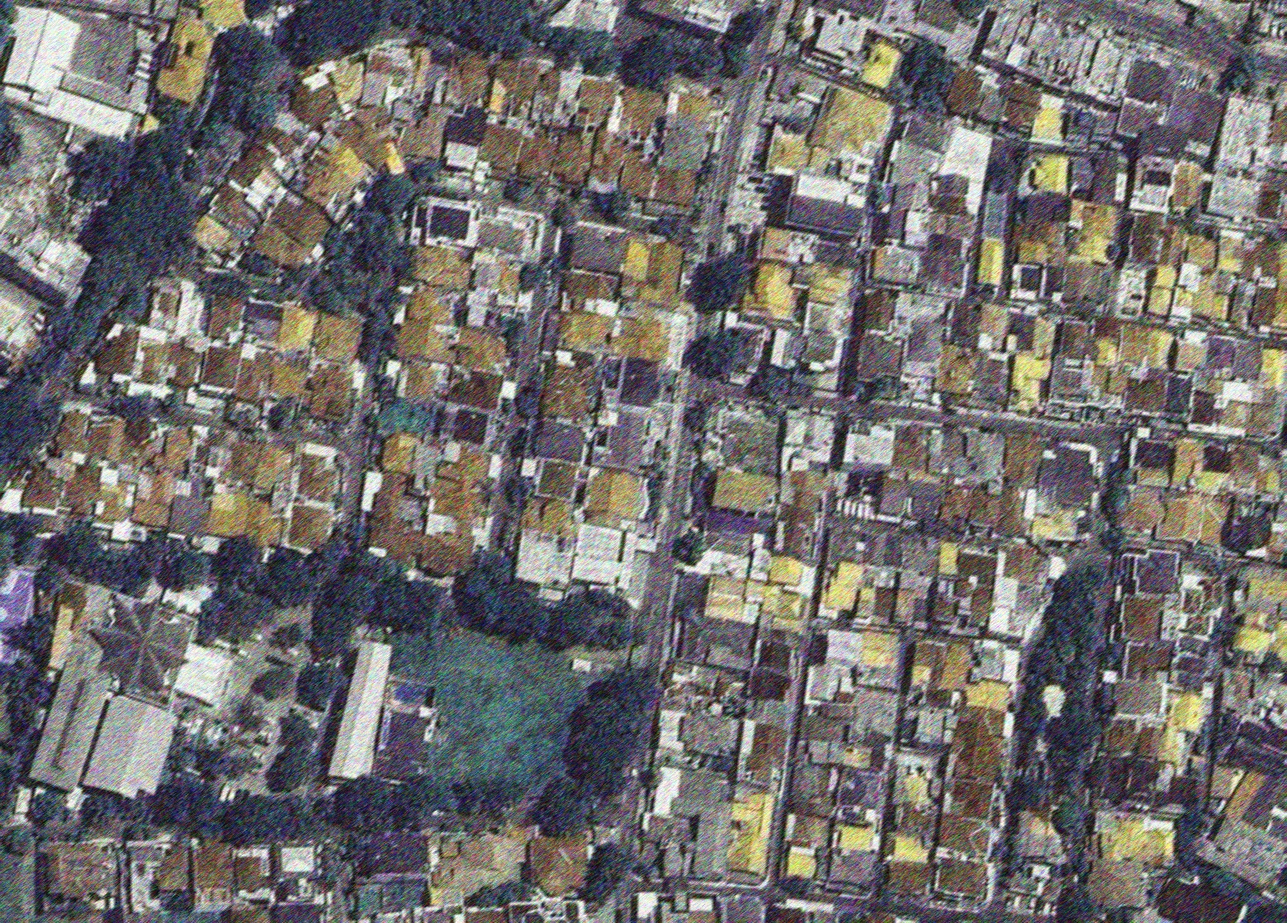building: (544, 226, 703, 373), (971, 0, 1144, 112), (341, 467, 479, 604), (73, 581, 204, 711), (26, 632, 124, 795), (199, 120, 316, 246), (653, 645, 752, 773), (880, 111, 994, 222), (0, 192, 101, 309), (81, 691, 180, 807), (415, 445, 496, 583), (327, 638, 395, 786), (246, 186, 342, 284), (797, 686, 899, 774), (369, 676, 446, 789), (60, 10, 147, 108), (16, 78, 141, 146), (806, 81, 898, 170), (0, 3, 83, 100), (1195, 808, 1287, 895), (290, 132, 376, 222), (425, 830, 526, 906), (510, 489, 584, 592), (806, 628, 901, 707), (875, 0, 987, 65), (797, 260, 858, 376), (152, 13, 223, 109), (44, 578, 112, 678), (929, 122, 1000, 217), (782, 169, 873, 243), (650, 764, 735, 843), (797, 0, 881, 75), (334, 101, 410, 179), (769, 467, 830, 563), (693, 510, 771, 585), (203, 484, 289, 552), (1157, 80, 1230, 157), (986, 550, 1047, 642), (675, 610, 760, 676), (707, 402, 781, 475), (1220, 757, 1287, 837), (537, 345, 601, 426), (462, 256, 526, 337), (1213, 93, 1276, 173), (140, 274, 209, 347), (0, 272, 50, 371), (1095, 813, 1180, 871), (723, 787, 776, 880), (827, 519, 921, 570), (569, 523, 639, 591), (1037, 442, 1099, 516), (951, 706, 1008, 786), (171, 641, 237, 709), (1200, 165, 1269, 230), (557, 218, 630, 279), (527, 831, 593, 898), (1218, 665, 1287, 729), (583, 467, 650, 532), (1154, 876, 1246, 923), (360, 42, 419, 113), (1155, 491, 1228, 547), (735, 720, 792, 791), (634, 0, 737, 39), (437, 101, 490, 176), (742, 258, 804, 322), (512, 529, 577, 590), (780, 407, 837, 476), (747, 636, 802, 706), (204, 182, 268, 242), (621, 237, 686, 296), (356, 833, 431, 884), (409, 197, 482, 249), (709, 466, 779, 520), (910, 641, 971, 702), (397, 99, 452, 166), (1129, 149, 1182, 218), (1223, 718, 1287, 775), (658, 112, 714, 176), (701, 572, 766, 627), (1122, 54, 1183, 112), (611, 310, 675, 365), (600, 409, 652, 475), (47, 844, 108, 900), (487, 58, 541, 121), (691, 801, 734, 880), (510, 125, 562, 190), (1071, 200, 1122, 266), (917, 234, 972, 295), (817, 557, 867, 624), (473, 119, 526, 182), (1094, 755, 1159, 806), (410, 242, 475, 293), (582, 128, 630, 197), (309, 311, 363, 371), (549, 127, 597, 194), (1013, 810, 1070, 866), (846, 689, 901, 747), (186, 211, 244, 266), (281, 80, 340, 134), (1178, 573, 1227, 638), (442, 51, 494, 112), (1118, 549, 1182, 598), (559, 269, 622, 318), (1004, 351, 1053, 414), (756, 580, 811, 636), (1058, 256, 1114, 311), (643, 815, 694, 875), (1003, 863, 1060, 916), (901, 316, 946, 383), (306, 366, 357, 425), (1254, 242, 1287, 332), (453, 325, 511, 376), (193, 839, 234, 911), (936, 813, 995, 863), (678, 711, 740, 758), (0, 276, 42, 345), (857, 34, 905, 93), (59, 462, 106, 521), (764, 127, 816, 180), (284, 501, 334, 556), (855, 332, 905, 387), (526, 65, 571, 126), (190, 427, 238, 484), (572, 75, 620, 132), (934, 857, 992, 904), (322, 55, 367, 115), (934, 343, 979, 403), (448, 366, 504, 413), (867, 243, 923, 290), (703, 509, 774, 546), (971, 637, 1024, 686), (868, 243, 923, 290), (943, 65, 988, 122), (759, 226, 820, 268), (1001, 432, 1045, 490), (51, 407, 95, 465), (1091, 860, 1144, 908), (237, 297, 285, 350), (556, 310, 615, 353), (999, 81, 1045, 136), (198, 342, 243, 398), (1113, 97, 1164, 146), (19, 466, 66, 519), (787, 798, 833, 852), (534, 419, 588, 465), (396, 320, 453, 363), (1118, 491, 1168, 540), (651, 164, 700, 214), (127, 841, 161, 913), (825, 849, 877, 896), (944, 777, 997, 823), (901, 473, 947, 526), (616, 149, 661, 203), (232, 350, 274, 407), (838, 768, 884, 820), (1244, 387, 1287, 442), (930, 576, 974, 629), (419, 534, 473, 577), (1113, 678, 1169, 719), (297, 451, 340, 504), (276, 303, 318, 357), (645, 239, 686, 294), (703, 574, 749, 623), (1049, 355, 1095, 404), (963, 431, 1007, 482), (1223, 512, 1274, 556), (1030, 503, 1082, 546), (252, 443, 295, 495), (1172, 636, 1211, 693), (622, 87, 666, 137), (844, 424, 895, 467), (470, 254, 521, 297), (619, 357, 661, 409), (154, 425, 196, 477), (85, 414, 127, 466), (96, 328, 137, 381), (475, 218, 529, 258), (973, 351, 1013, 405), (791, 761, 840, 805), (204, 292, 245, 344), (1201, 759, 1245, 807), (167, 493, 211, 541), (799, 328, 843, 376), (808, 264, 855, 308), (998, 544, 1048, 585), (1099, 715, 1143, 761), (267, 357, 310, 404), (424, 202, 472, 244), (222, 438, 263, 487), (234, 847, 271, 901), (1169, 159, 1204, 216), (927, 429, 969, 476), (892, 799, 939, 840), (965, 676, 1015, 714), (1242, 572, 1287, 614), (377, 431, 418, 477), (405, 286, 453, 325), (1018, 189, 1070, 225), (1129, 213, 1165, 265), (884, 861, 934, 898), (535, 459, 578, 502), (1165, 690, 1207, 734), (1139, 123, 1190, 159), (913, 0, 965, 35), (1124, 644, 1173, 681), (1168, 651, 1211, 693), (1029, 153, 1072, 195), (1015, 223, 1059, 264), (974, 236, 1008, 288), (749, 722, 791, 764), (397, 361, 439, 403), (563, 216, 603, 260), (1241, 237, 1280, 282), (972, 83, 1011, 128), (1171, 438, 1205, 489), (453, 446, 495, 487), (1117, 323, 1153, 370), (1202, 335, 1238, 382), (1123, 597, 1162, 640), (876, 472, 910, 521), (995, 486, 1027, 538), (893, 426, 929, 472), (167, 345, 203, 391), (785, 559, 825, 600), (1124, 377, 1167, 415), (1092, 151, 1122, 205), (1193, 274, 1229, 319), (823, 629, 863, 669), (860, 630, 900, 670), (1058, 319, 1095, 362), (779, 898, 842, 923), (862, 288, 896, 334), (1157, 223, 1191, 269), (665, 311, 691, 371), (1228, 279, 1259, 329), (955, 549, 998, 585), (159, 844, 189, 895), (1162, 374, 1195, 420), (1232, 622, 1274, 658), (199, 0, 249, 30), (968, 488, 1002, 532), (902, 538, 940, 577), (1183, 233, 1221, 272), (914, 707, 949, 749), (130, 497, 172, 532), (452, 408, 490, 446), (1165, 773, 1204, 810), (895, 564, 935, 600), (1157, 720, 1188, 766), (805, 714, 849, 746), (1032, 105, 1068, 144), (275, 844, 315, 879), (1215, 230, 1246, 275), (1231, 340, 1264, 382), (1173, 337, 1209, 375), (898, 765, 932, 805), (977, 302, 1011, 342), (673, 89, 714, 122), (369, 516, 401, 558), (768, 553, 806, 588), (1134, 437, 1173, 471), (1189, 389, 1223, 428), (139, 342, 170, 384), (784, 846, 820, 881), (1259, 347, 1287, 392), (968, 582, 994, 630), (836, 824, 876, 855), (1006, 311, 1036, 352), (890, 833, 930, 863), (1256, 185, 1287, 223), (721, 896, 766, 922), (97, 482, 126, 522), (763, 327, 791, 368), (271, 901, 323, 922), (411, 46, 431, 100), (1148, 328, 1174, 369), (604, 93, 629, 135), (1145, 284, 1175, 319), (1070, 158, 1097, 196), (1230, 445, 1260, 479), (713, 671, 745, 702), (147, 473, 177, 506), (1136, 724, 1164, 759), (893, 587, 918, 626), (1013, 264, 1042, 297), (519, 903, 569, 922), (884, 206, 910, 242), (125, 418, 155, 449), (872, 587, 897, 624), (1042, 263, 1067, 300), (1104, 368, 1130, 398), (633, 892, 659, 922), (223, 906, 270, 922), (1270, 101, 1287, 145), (1017, 241, 1048, 265), (819, 700, 854, 721), (0, 485, 24, 515), (1255, 469, 1282, 495), (1201, 470, 1229, 495), (1153, 264, 1178, 289), (1274, 619, 1287, 662), (808, 740, 830, 764), (776, 907, 807, 922), (861, 911, 896, 922), (2, 269, 24, 285), (700, 851, 713, 874), (836, 912, 863, 922)
tree: (92, 161, 216, 286), (41, 243, 144, 356), (183, 569, 280, 667), (562, 694, 647, 805), (273, 0, 384, 72), (59, 126, 144, 217), (420, 0, 548, 59), (209, 18, 292, 96), (149, 773, 238, 845), (684, 243, 759, 326), (1038, 691, 1113, 768), (533, 773, 609, 847), (0, 379, 62, 468), (125, 120, 197, 192), (0, 657, 51, 756), (622, 25, 695, 93), (678, 326, 756, 389), (536, 591, 607, 659), (344, 209, 418, 273), (329, 771, 401, 836), (377, 574, 460, 630), (600, 658, 668, 726), (580, 838, 644, 910), (272, 713, 325, 796), (386, 771, 453, 836), (493, 583, 556, 650), (230, 798, 307, 849), (328, 566, 388, 626), (160, 542, 220, 600), (1052, 567, 1109, 626), (210, 534, 269, 590), (125, 532, 170, 601), (0, 515, 42, 588), (84, 541, 139, 596), (262, 550, 314, 608), (554, 27, 619, 73), (111, 271, 161, 330), (463, 876, 536, 916), (1024, 638, 1076, 693), (19, 337, 71, 392), (55, 521, 107, 575), (235, 84, 287, 138), (23, 782, 76, 834), (324, 254, 372, 311), (460, 776, 530, 815), (356, 312, 404, 367), (75, 789, 126, 840), (895, 36, 942, 90), (682, 37, 731, 88), (311, 604, 356, 659), (362, 276, 413, 324), (368, 172, 422, 216), (1060, 611, 1111, 657), (315, 520, 360, 572), (745, 364, 794, 411), (727, 3, 778, 48), (467, 583, 515, 630), (304, 662, 350, 711), (715, 32, 761, 80), (1059, 880, 1109, 923), (1199, 861, 1248, 904), (1175, 803, 1205, 873), (1061, 652, 1107, 697), (921, 48, 964, 96), (349, 551, 407, 586), (153, 99, 202, 140), (106, 390, 157, 429), (1048, 797, 1092, 842), (307, 272, 352, 316), (1021, 675, 1054, 734), (683, 395, 726, 439), (598, 182, 641, 226), (589, 622, 648, 654), (669, 527, 712, 570), (15, 616, 60, 656), (8, 533, 51, 574), (196, 110, 235, 154), (253, 666, 299, 702), (1011, 776, 1051, 817), (1050, 623, 1087, 667), (0, 753, 26, 812), (987, 153, 1021, 198), (911, 83, 953, 119), (1230, 49, 1265, 92), (313, 850, 348, 892), (378, 1, 424, 32), (586, 589, 635, 618), (775, 105, 815, 140), (1210, 712, 1242, 755), (2, 107, 26, 164), (504, 473, 541, 509), (459, 569, 496, 605), (200, 746, 236, 782), (201, 274, 255, 298), (517, 375, 546, 419), (480, 554, 516, 589), (1102, 482, 1135, 520), (271, 619, 310, 651), (277, 262, 317, 293), (516, 261, 552, 294), (1098, 523, 1132, 557), (316, 228, 350, 262), (863, 374, 899, 406), (0, 828, 37, 859), (264, 400, 297, 434), (553, 201, 586, 234), (126, 817, 159, 850), (865, 177, 892, 216), (241, 252, 278, 280), (645, 477, 667, 524), (647, 437, 674, 475), (343, 828, 370, 866), (220, 88, 251, 121), (514, 429, 544, 463), (1044, 598, 1076, 629), (1052, 750, 1088, 777), (650, 214, 687, 240), (503, 316, 530, 351), (1082, 561, 1112, 591), (1022, 732, 1047, 768), (1239, 12, 1268, 42), (709, 754, 739, 783), (1168, 861, 1199, 889), (343, 518, 371, 548), (1011, 142, 1037, 174), (1246, 902, 1286, 922), (256, 282, 288, 307), (1207, 616, 1232, 647), (1199, 556, 1229, 581), (1222, 645, 1249, 672), (721, 693, 749, 719), (1241, 888, 1268, 914), (782, 877, 817, 897), (505, 182, 535, 205), (157, 893, 191, 913), (197, 76, 217, 108), (307, 808, 326, 841), (762, 400, 787, 425), (161, 391, 186, 416), (1197, 812, 1221, 838), (247, 1, 276, 22), (1073, 857, 1098, 881), (1146, 877, 1166, 907), (692, 460, 719, 482), (413, 161, 441, 182), (376, 374, 397, 402), (955, 1, 989, 18), (691, 434, 716, 457), (1060, 775, 1083, 799), (602, 358, 623, 384), (1078, 511, 1100, 535), (990, 841, 1013, 863), (1089, 764, 1110, 788), (1106, 907, 1137, 923), (891, 383, 912, 406), (1009, 852, 1032, 872), (846, 379, 867, 399), (699, 158, 719, 177), (1192, 220, 1211, 239), (307, 578, 321, 603), (1111, 459, 1126, 482), (1119, 469, 1138, 487), (640, 866, 662, 881), (1187, 204, 1205, 222), (1233, 569, 1249, 589), (1268, 230, 1286, 247), (493, 818, 513, 833), (1049, 865, 1066, 882), (503, 399, 520, 416), (1107, 244, 1123, 262), (1065, 230, 1078, 251), (928, 622, 945, 638), (467, 821, 484, 835), (1080, 313, 1095, 327), (443, 822, 459, 834), (787, 21, 799, 35)
